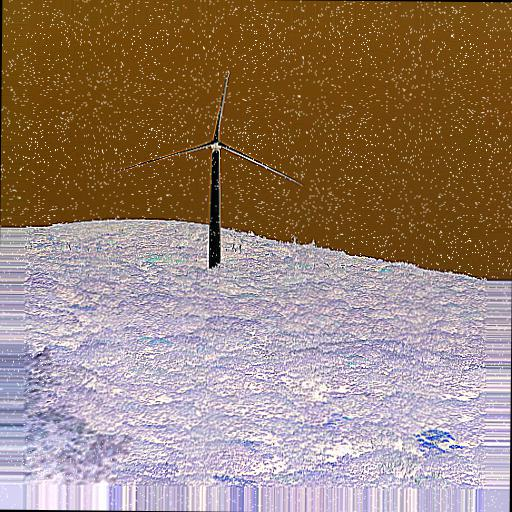wind turbine: (117, 69, 304, 268)
